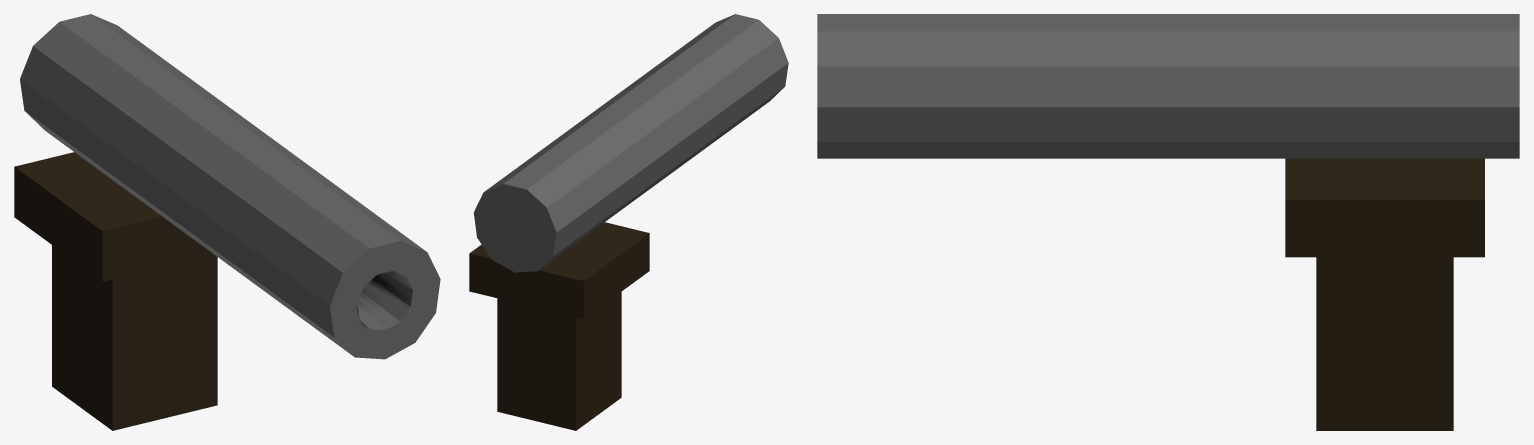
File: Canhao.fbx
3 views of the same model, side by side, from view 1: azimuth 30°, elevation 25°; view 2: azimuth 150°, elevation 25°; view 3: azimuth 270°, elevation 25° (orthographic). The views are drawn at different scales.
Parts seen in each view (by area): view 1: Cylinder, Cube; view 2: Cylinder, Cube; view 3: Cylinder, Cube.
Part boxes in pixels (bbox=[...]): Cylinder: bbox=[20, 14, 440, 359]; Cube: bbox=[14, 152, 217, 430]; Cylinder: bbox=[473, 14, 788, 272]; Cube: bbox=[469, 222, 649, 430]; Cylinder: bbox=[817, 14, 1519, 158]; Cube: bbox=[1285, 158, 1484, 430].
Bounding box in the file's own units: 167 × 350 × 587.
2 materials, 2 textured.
